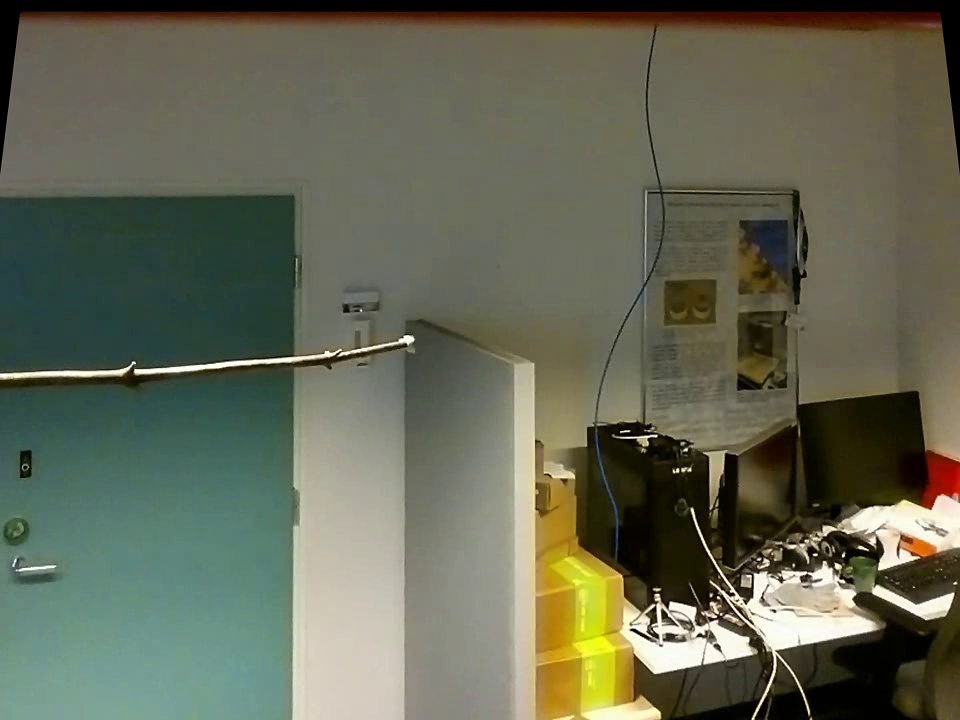branch: (3, 325, 398, 407)
